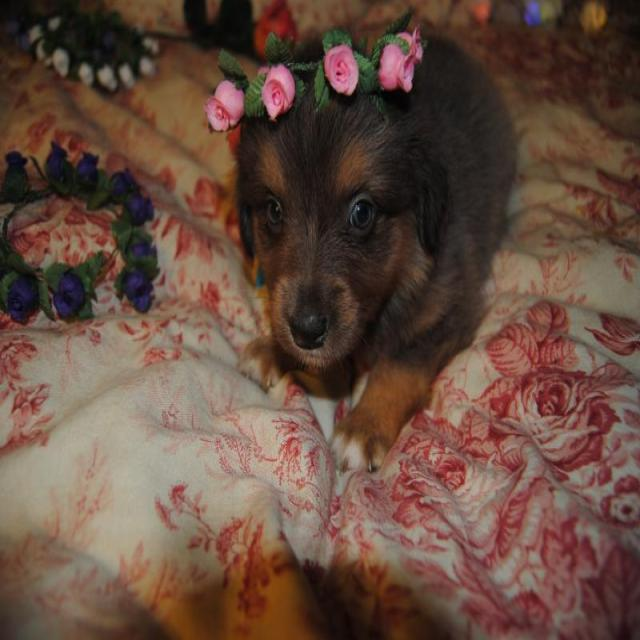dog: (186, 12, 459, 423)
